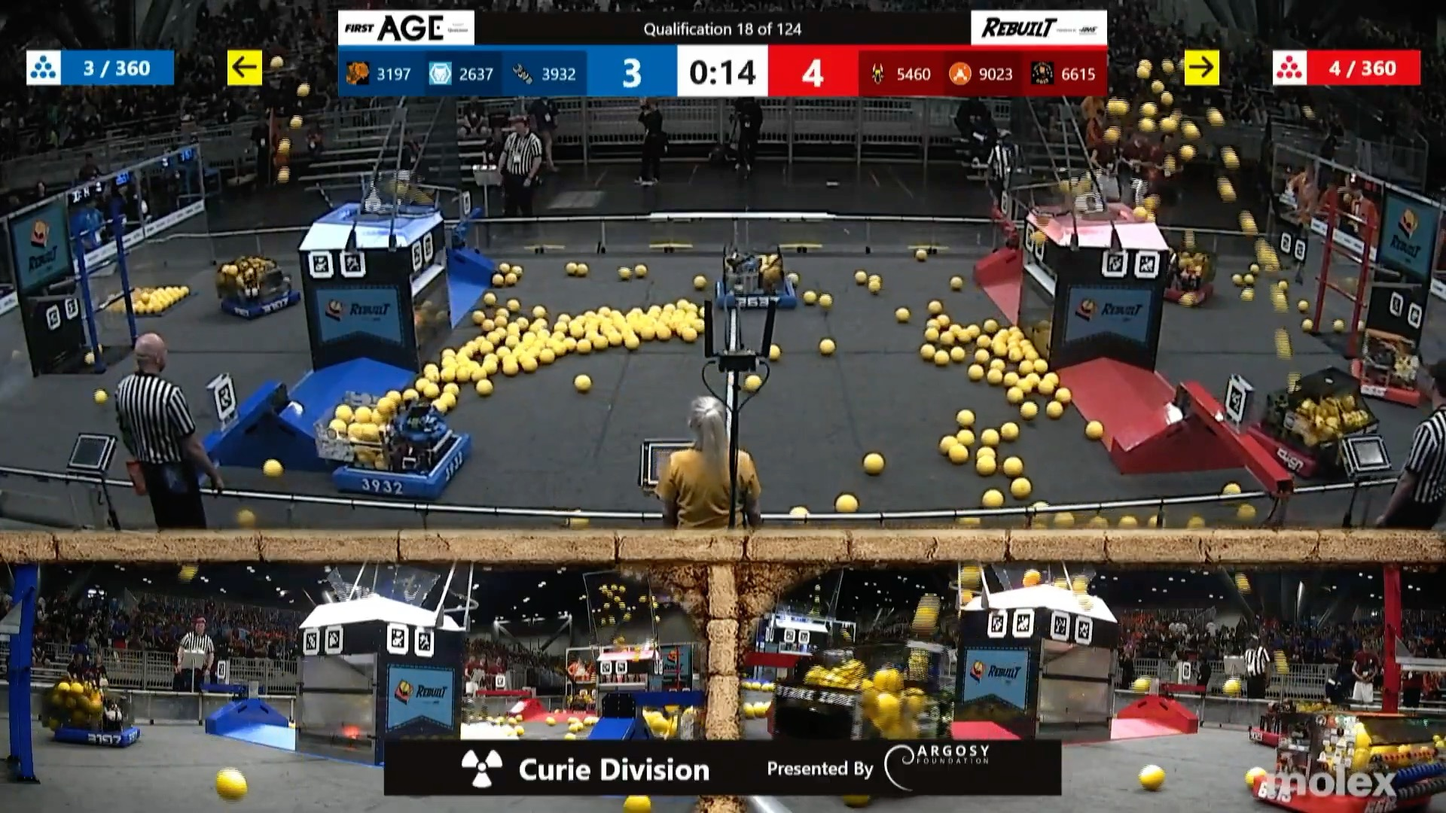bumpers: (1243, 408, 1377, 485), (1243, 761, 1434, 813), (327, 436, 475, 501), (1332, 354, 1432, 413), (50, 714, 153, 752), (212, 285, 312, 322), (709, 276, 805, 312), (1146, 279, 1216, 307)
